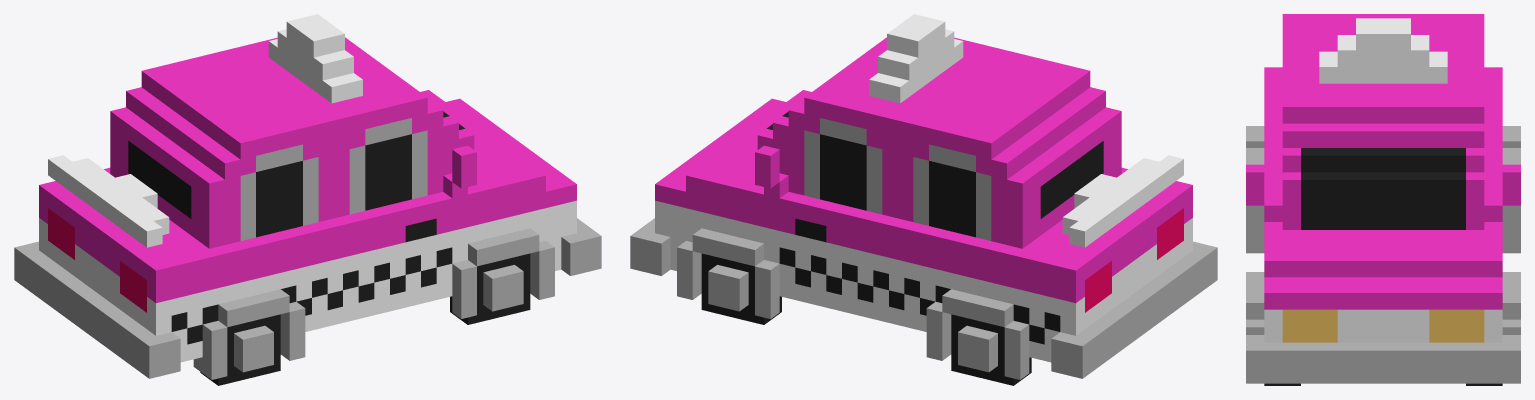
Rendered from Taxi2.0.fbx.
The picture shows the model from 3 angles, left to right: view 1: azimuth 30°, elevation 25°; view 2: azimuth 150°, elevation 25°; view 3: azimuth 270°, elevation 25°; orthographic projection.
Visible parts, largest first — view 1: Cubo.1915; view 2: Cubo.1915; view 3: Cubo.1915.
Part boxes in pixels (x1,y1,x2,y2): Cubo.1915: (14, 14, 601, 385); Cubo.1915: (630, 14, 1217, 385); Cubo.1915: (1246, 14, 1520, 385).
Size of the model in its own units: 2900 by 1700 by 1500.
